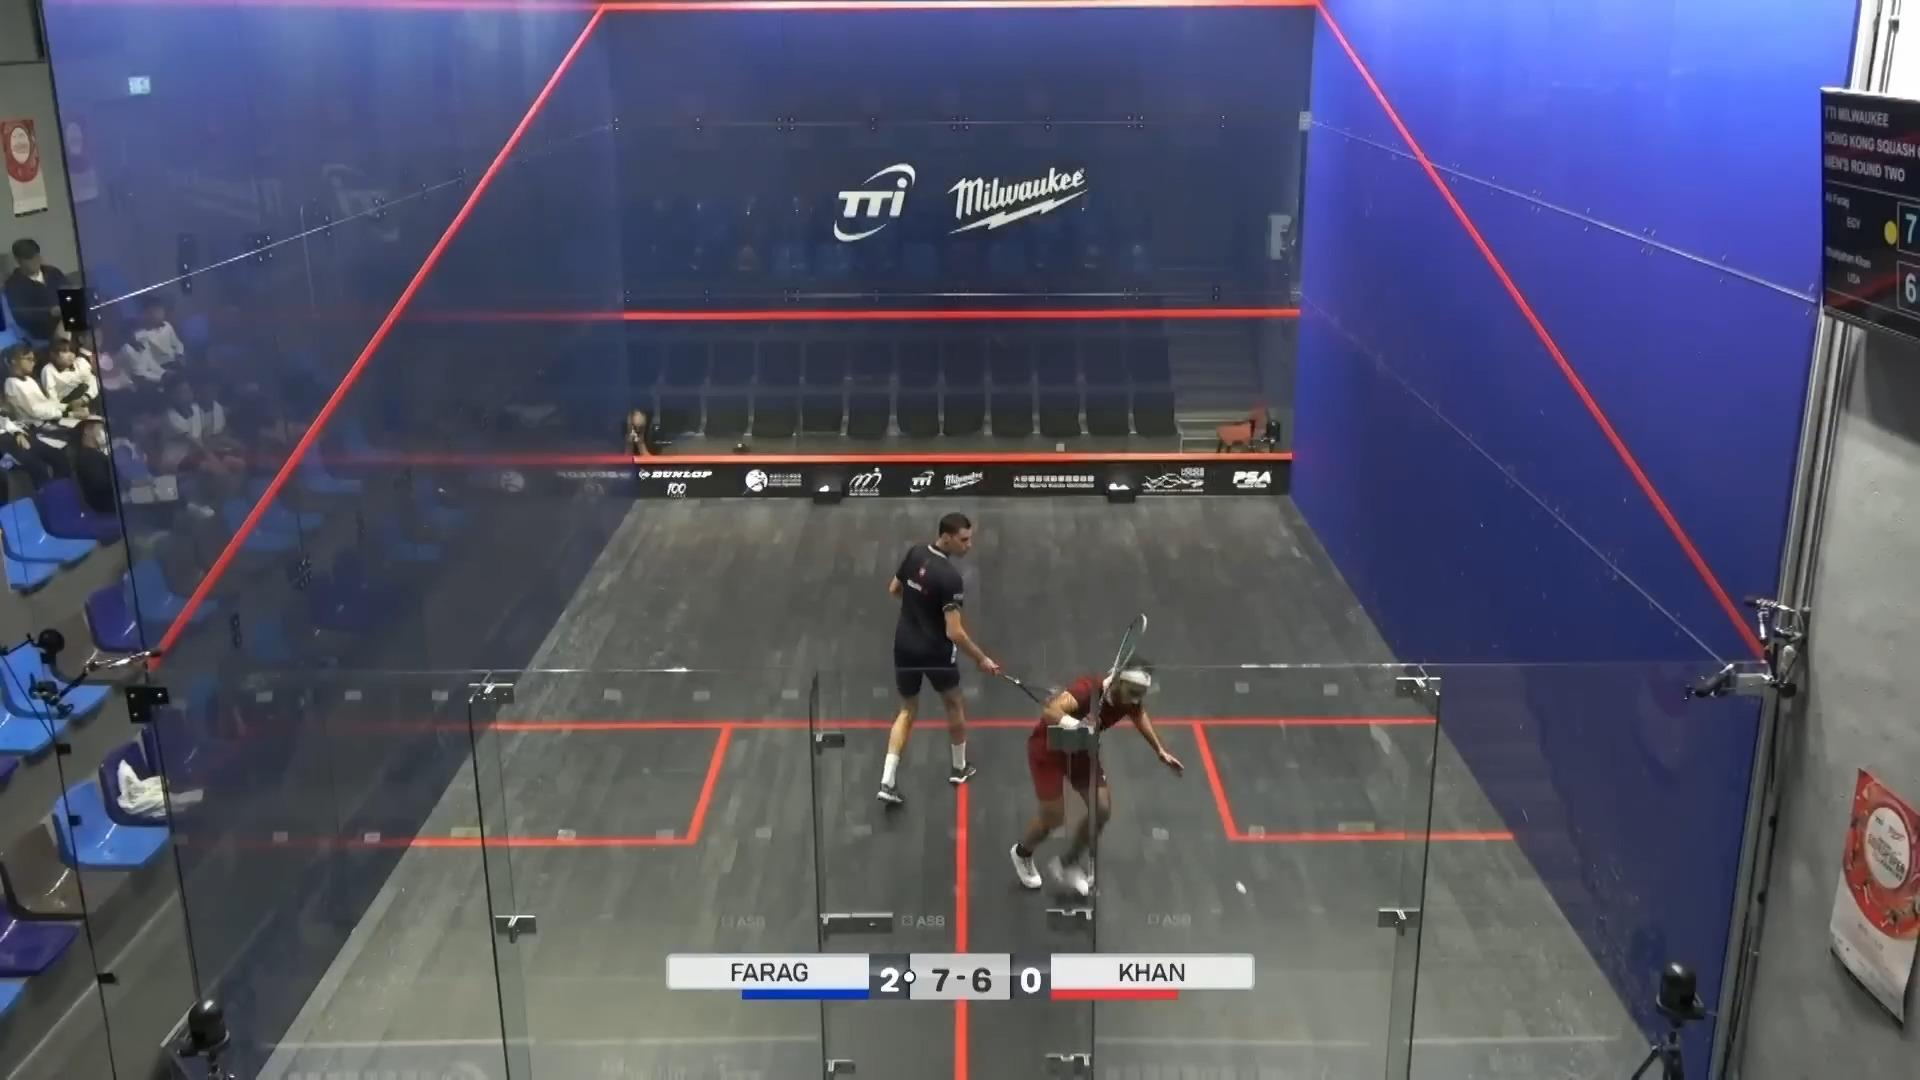Racket: (1097, 608, 1160, 721), (1000, 659, 1060, 703)
